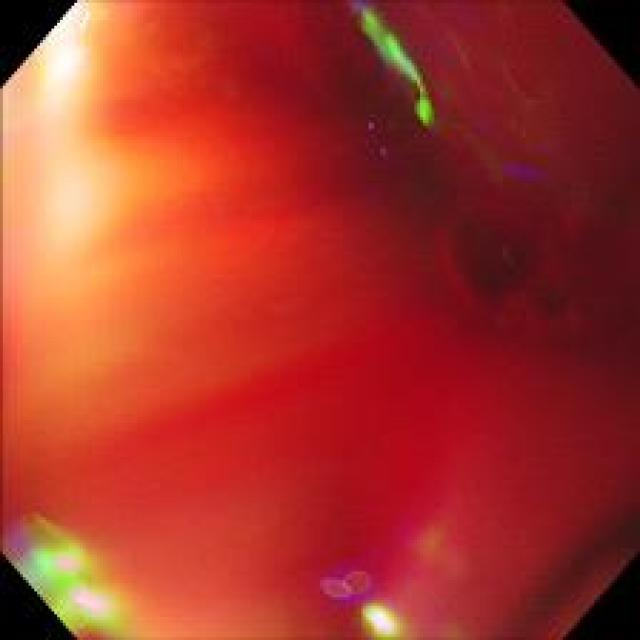bubbles: (429, 178, 620, 342)
color misalignment: (18, 11, 625, 626), (6, 508, 125, 632), (351, 8, 442, 139), (392, 474, 480, 594), (314, 559, 375, 598), (349, 594, 402, 636)
